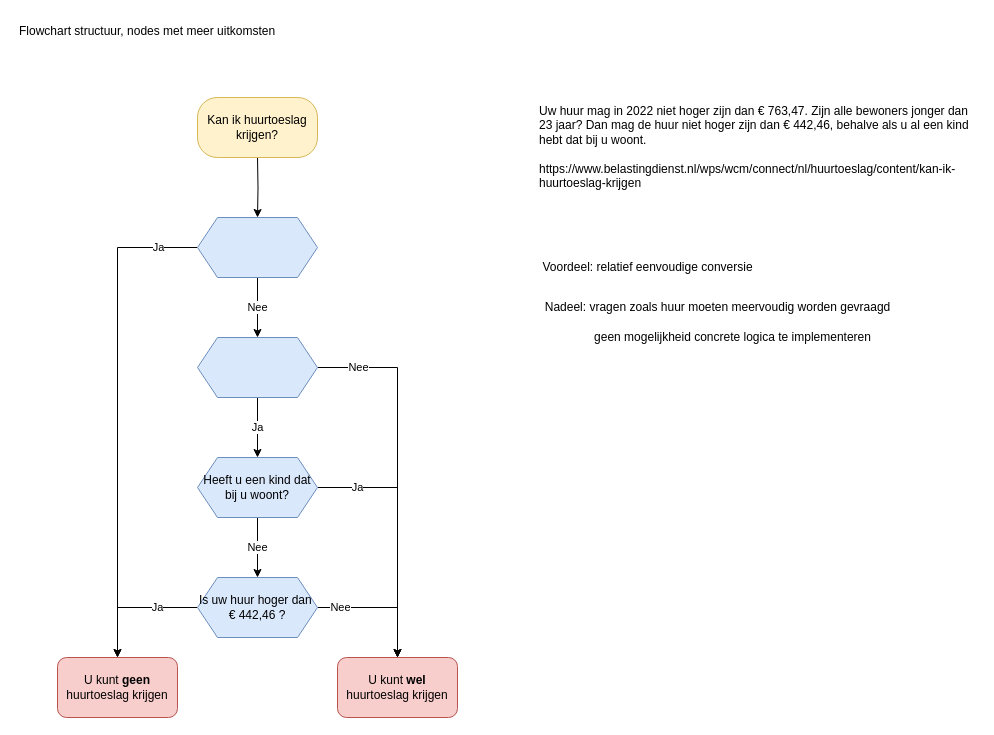
Some shapes in this 994 by 735 pixel diagram are drawn without their labels. The shapes that lost their labels are listed below. From the top down, each one's centre as x and y in pixels, then its label:
At (x=257, y=247): "Is uw huur hoger dan € 763,47 ?".
At (x=257, y=367): "Zijn alle bewoners jonger dan 23 jaar?".
